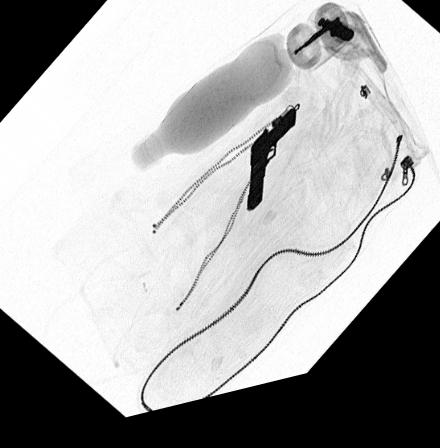Gun: (245, 122, 291, 223)
